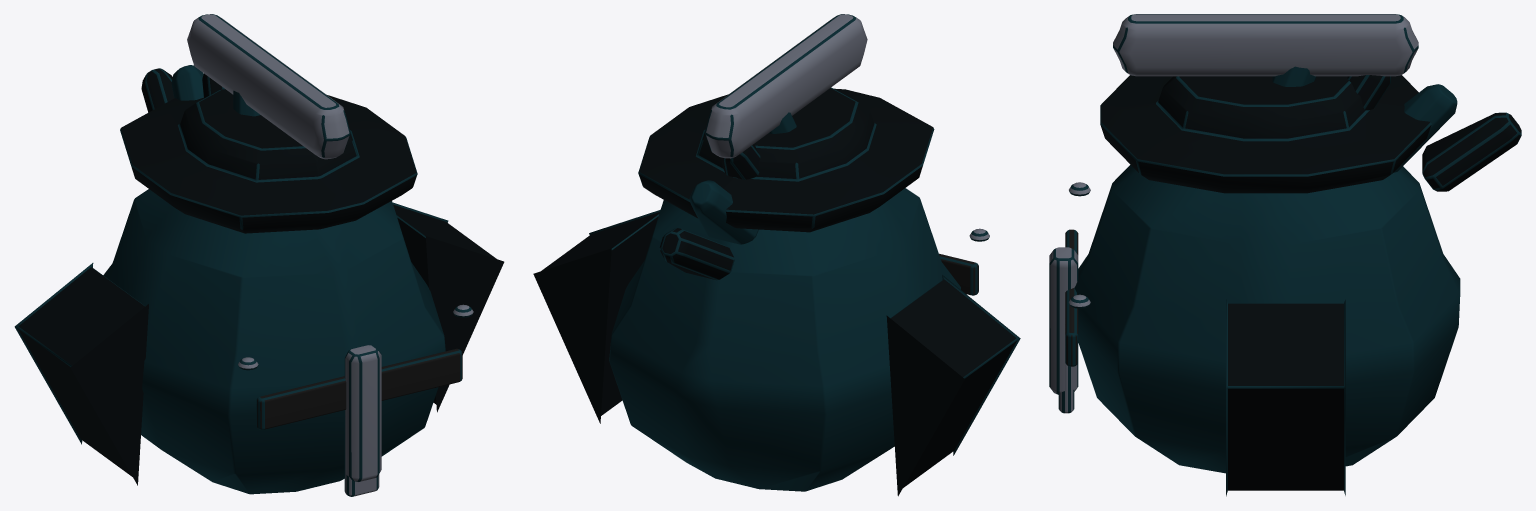
The model's file is Trama_Elmo.fbx.
The picture shows the model from 3 angles, left to right: view 1: azimuth 30°, elevation 25°; view 2: azimuth 150°, elevation 25°; view 3: azimuth 270°, elevation 25°; orthographic projection. The views are drawn at different scales.
Parts seen in each view (by area): view 1: Piece; view 2: Piece; view 3: Piece.
Boxes of the visible parts, x1,y1,x2,y2 form: Piece: (14, 14, 504, 496); Piece: (533, 14, 1020, 496); Piece: (1049, 14, 1521, 496).
Size of the model in its own units: 0.4398 by 0.3776 by 0.3874.
